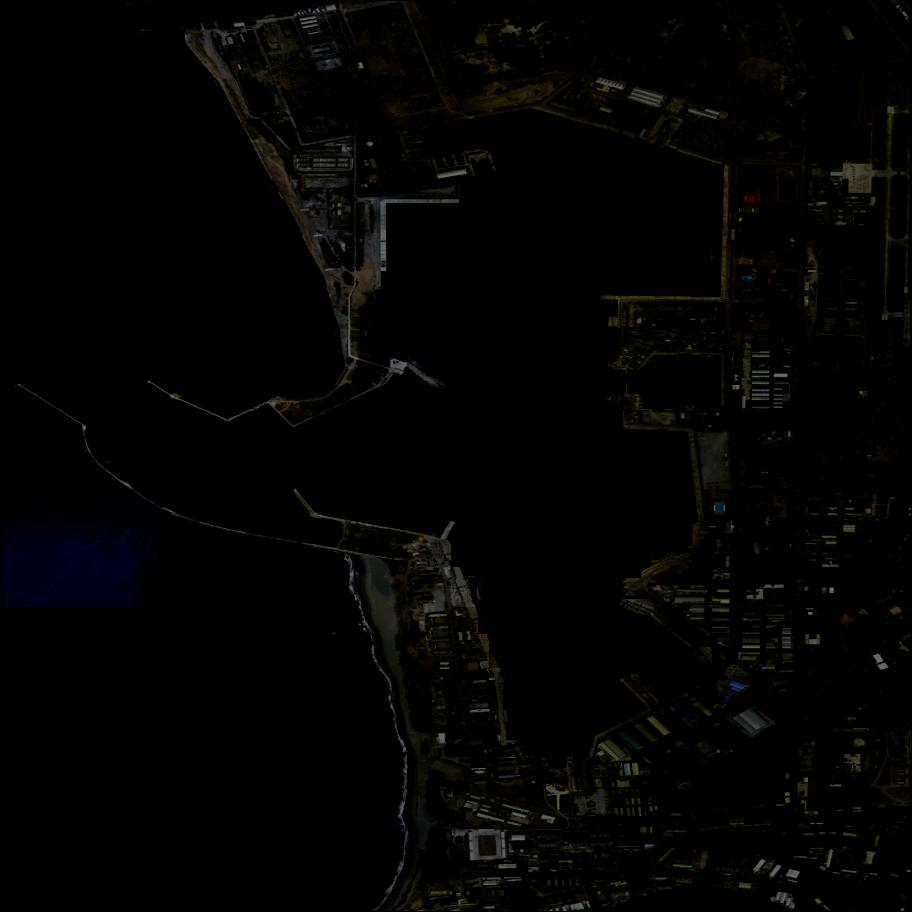ship: (408, 357, 451, 393), (647, 656, 676, 687), (621, 595, 645, 625), (655, 622, 684, 646), (644, 548, 692, 561), (620, 599, 654, 616), (694, 647, 713, 669), (691, 648, 708, 672), (469, 576, 484, 603), (490, 643, 506, 668), (478, 610, 493, 635), (451, 541, 464, 567), (658, 119, 673, 141), (467, 577, 477, 604), (499, 677, 507, 701), (622, 571, 641, 578), (701, 352, 715, 360), (713, 360, 720, 372), (703, 403, 715, 408), (668, 403, 680, 408), (717, 362, 722, 373), (668, 406, 678, 410), (686, 405, 694, 410), (717, 390, 721, 400), (658, 430, 667, 434), (679, 353, 690, 356), (679, 356, 694, 358), (686, 405, 696, 408), (718, 250, 720, 261), (711, 251, 713, 261), (706, 406, 714, 408), (716, 250, 717, 262), (650, 406, 660, 407)
storage-tank: (853, 739, 865, 749), (830, 737, 832, 739), (829, 746, 831, 747)
